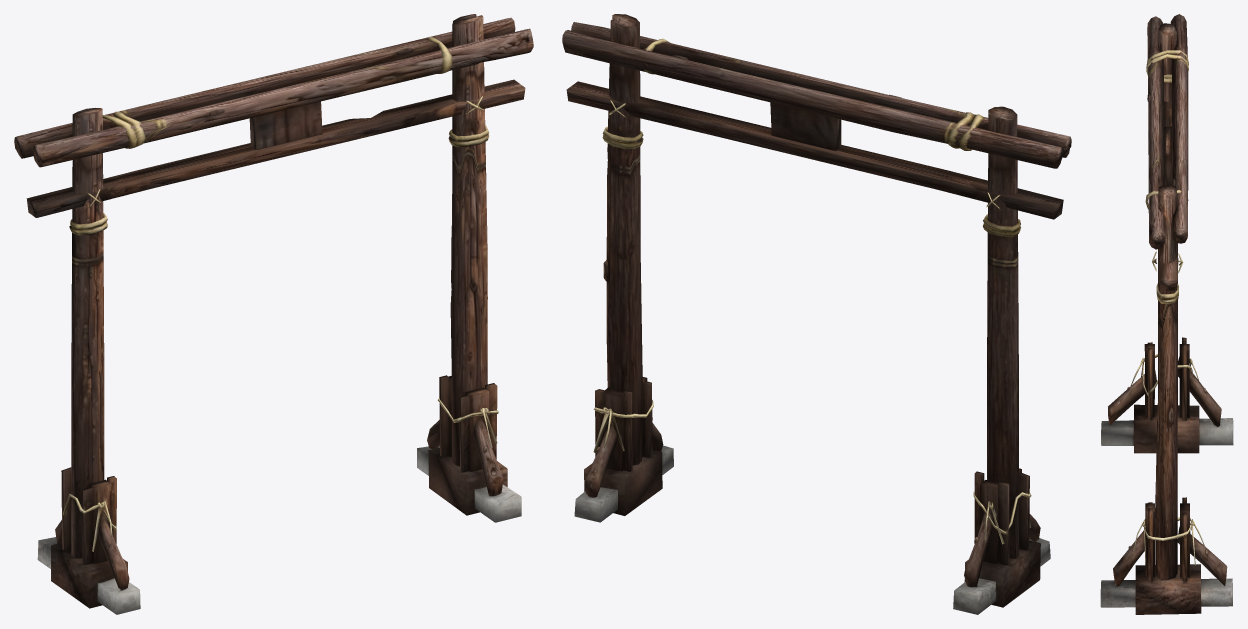
File: rope-bridge-tower.glb
The picture shows the model from 3 angles, left to right: view 1: azimuth 30°, elevation 25°; view 2: azimuth 150°, elevation 25°; view 3: azimuth 270°, elevation 25°; orthographic projection. The views are drawn at different scales.
Parts seen in each view (by area): view 1: rope-bridge-tower; view 2: rope-bridge-tower; view 3: rope-bridge-tower.
Part boxes in pixels (box(x1,y1,x2,y2)): rope-bridge-tower: box(14, 14, 533, 614); rope-bridge-tower: box(562, 14, 1071, 614); rope-bridge-tower: box(1100, 14, 1233, 614).
Size of the model in its own units: 7.7 by 7.06 by 2.04.
Materials: 1 (1 with a texture image).
